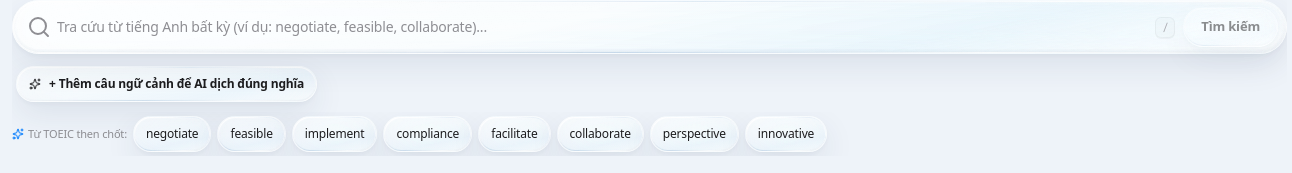
Test: React Component Testing (RTL) › SearchBar Component › clears query when clear button is clicked
Replace the text in the field with "collaborate" at (650, 27), box [13,5,1286,49]
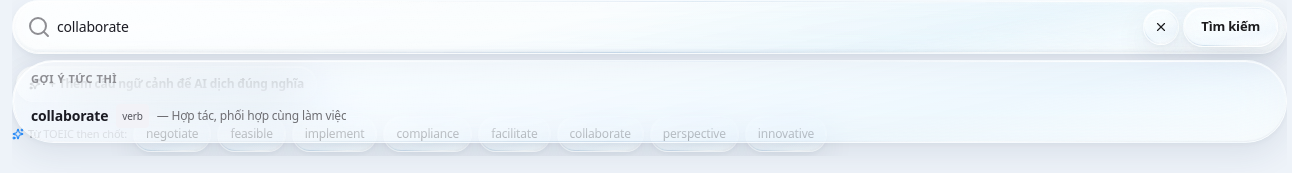
Click the button titled "Xóa" at (1161, 27), box [1143,9,1179,45]
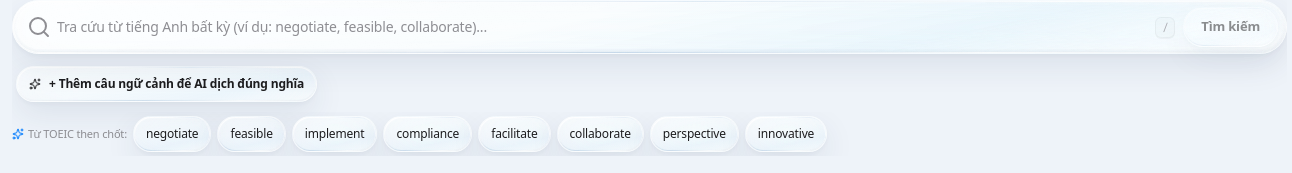
expect the field is empty: met, box [13,5,1286,49]
